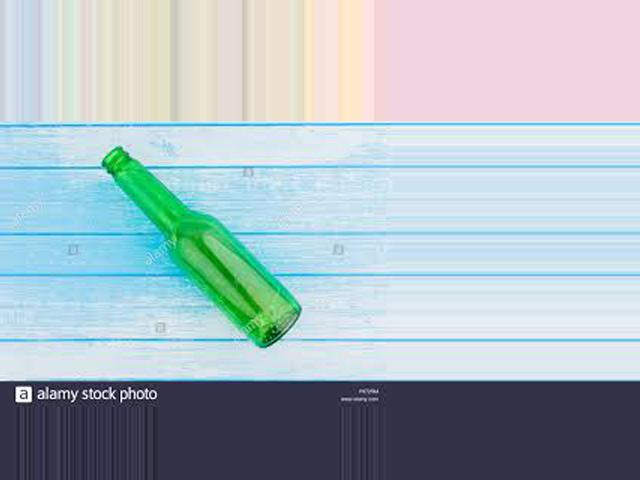beer: (100, 146, 304, 351)
